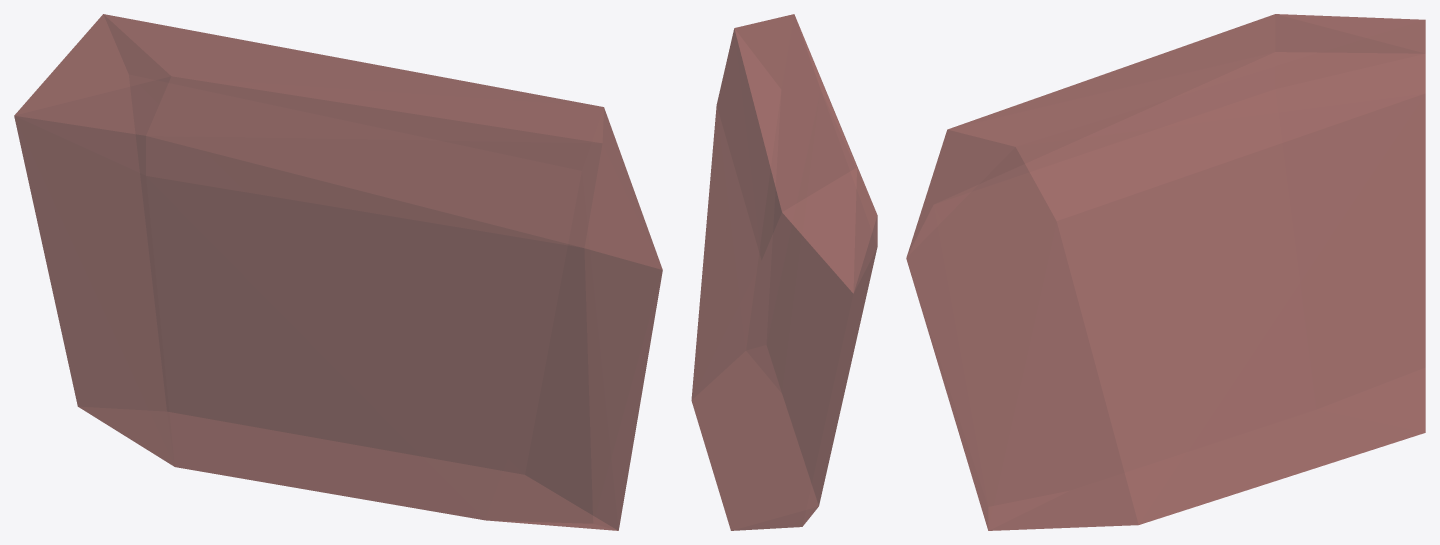
3 views of the same model, side by side, from view 1: azimuth 30°, elevation 25°; view 2: azimuth 150°, elevation 25°; view 3: azimuth 270°, elevation 25° (orthographic). The views are drawn at different scales.
Visible parts, largest first — view 1: Shape_IndexedFaceSet.046_Shape_IndexedFaceSet.6453; view 2: Shape_IndexedFaceSet.046_Shape_IndexedFaceSet.6453; view 3: Shape_IndexedFaceSet.046_Shape_IndexedFaceSet.6453.
Boxes of the visible parts, x1,y1,x2,y2 form: Shape_IndexedFaceSet.046_Shape_IndexedFaceSet.6453: (14, 14, 662, 530); Shape_IndexedFaceSet.046_Shape_IndexedFaceSet.6453: (691, 14, 877, 530); Shape_IndexedFaceSet.046_Shape_IndexedFaceSet.6453: (906, 14, 1425, 530).
Size of the model in its own units: 0.1847 by 0.1975 by 0.2421.
